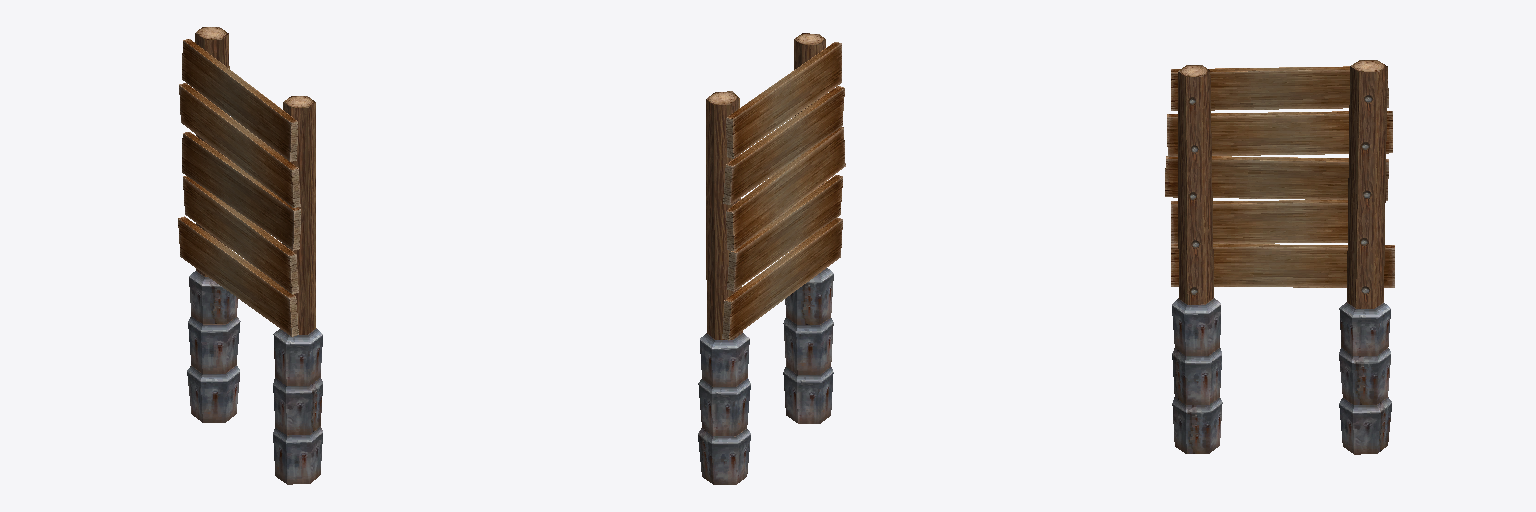
3 renders of one model, left to right at view 1: azimuth 30°, elevation 25°; view 2: azimuth 150°, elevation 25°; view 3: azimuth 270°, elevation 25°, orthographic.
Visible parts, largest first — view 1: excavationbarrier02; view 2: excavationbarrier02; view 3: excavationbarrier02.
Part boxes in pixels (x1,y1,x2,y2): excavationbarrier02: (178, 27, 322, 484); excavationbarrier02: (698, 33, 845, 484); excavationbarrier02: (1165, 60, 1394, 454).
Bounding box in the file's own units: 2.55 × 22.2 × 12.17.
Materials: 4 (4 with a texture image).